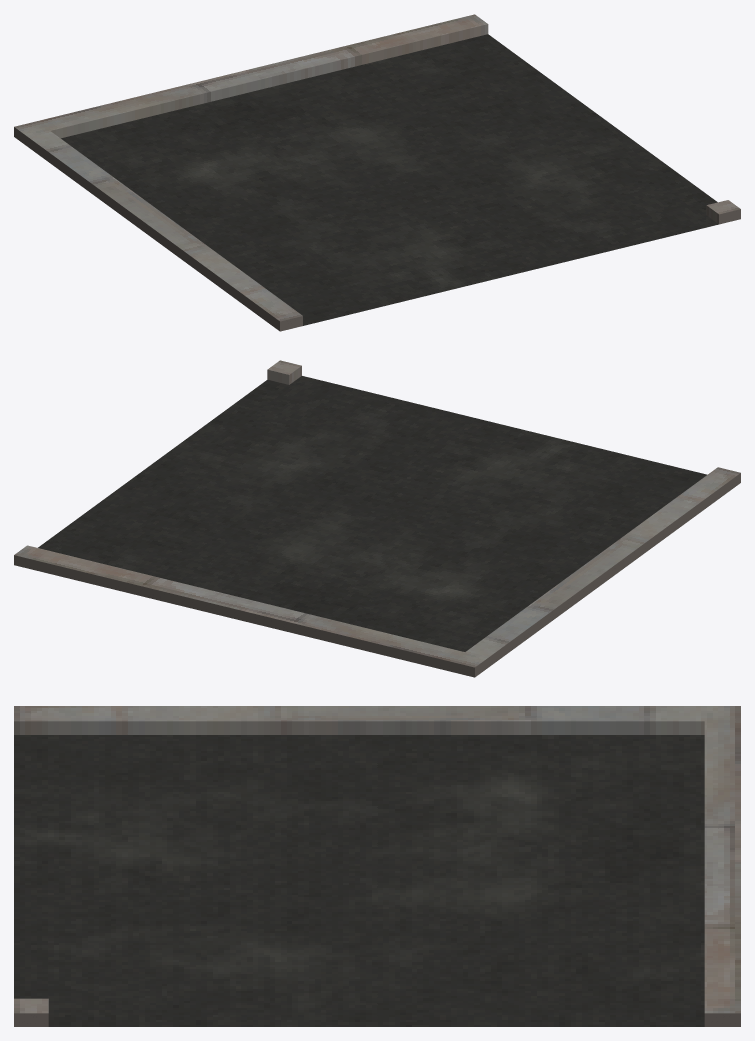
Rendered from Road Corner.glb.
3 renders of one model, top to bottom at view 1: azimuth 30°, elevation 25°; view 2: azimuth 150°, elevation 25°; view 3: azimuth 270°, elevation 25°, orthographic. The views are drawn at different scales.
Visible parts, largest first — view 1: RoadCorner; view 2: RoadCorner; view 3: RoadCorner.
Boxes of the visible parts, x1,y1,x2,y2 form: RoadCorner: [14, 14, 740, 331]; RoadCorner: [14, 360, 740, 677]; RoadCorner: [14, 706, 740, 1026].
Size of the model in its own units: 4.8 by 0.1 by 4.8.
2 materials, 2 textured.
